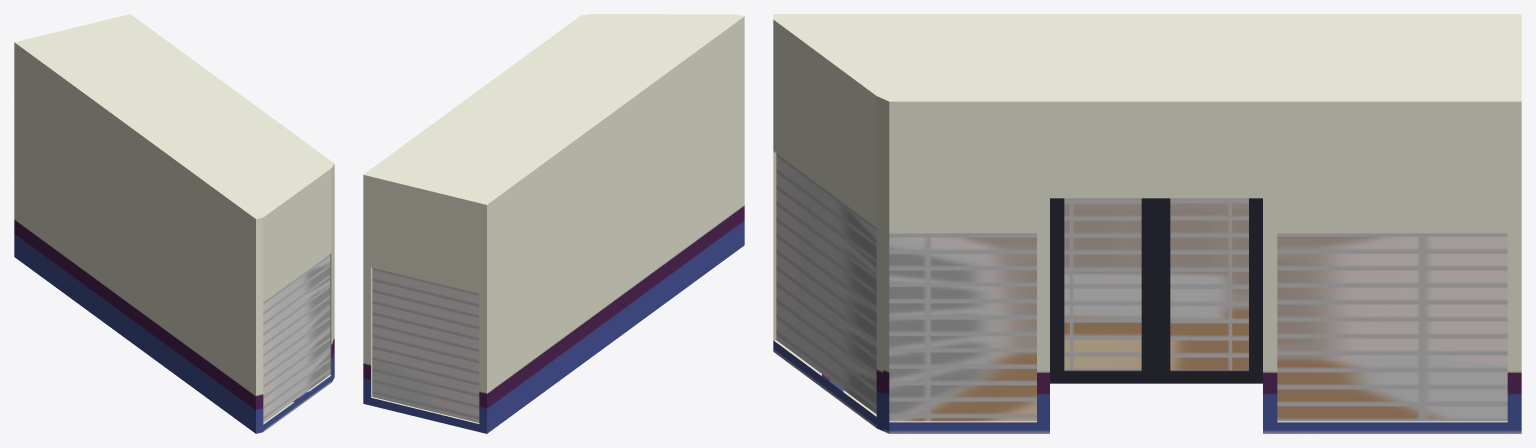
File: StoreFront_LeftSlant_Model.fbx
3 renders of one model, left to right at view 1: azimuth 30°, elevation 25°; view 2: azimuth 150°, elevation 25°; view 3: azimuth 270°, elevation 25°, orthographic. The views are drawn at different scales.
Parts seen in each view (by area): view 1: pasted__pasted__pCube1; view 2: pasted__pasted__pCube1; view 3: pasted__pasted__pCube1.
Part boxes in pixels (box(x1,y1,x2,y2)): pasted__pasted__pCube1: box(14, 14, 334, 433); pasted__pasted__pCube1: box(363, 14, 744, 433); pasted__pasted__pCube1: box(773, 14, 1521, 433).
Size of the model in its own units: 3.94 by 6.98 by 14.24.
Materials: 1 (1 with a texture image).
